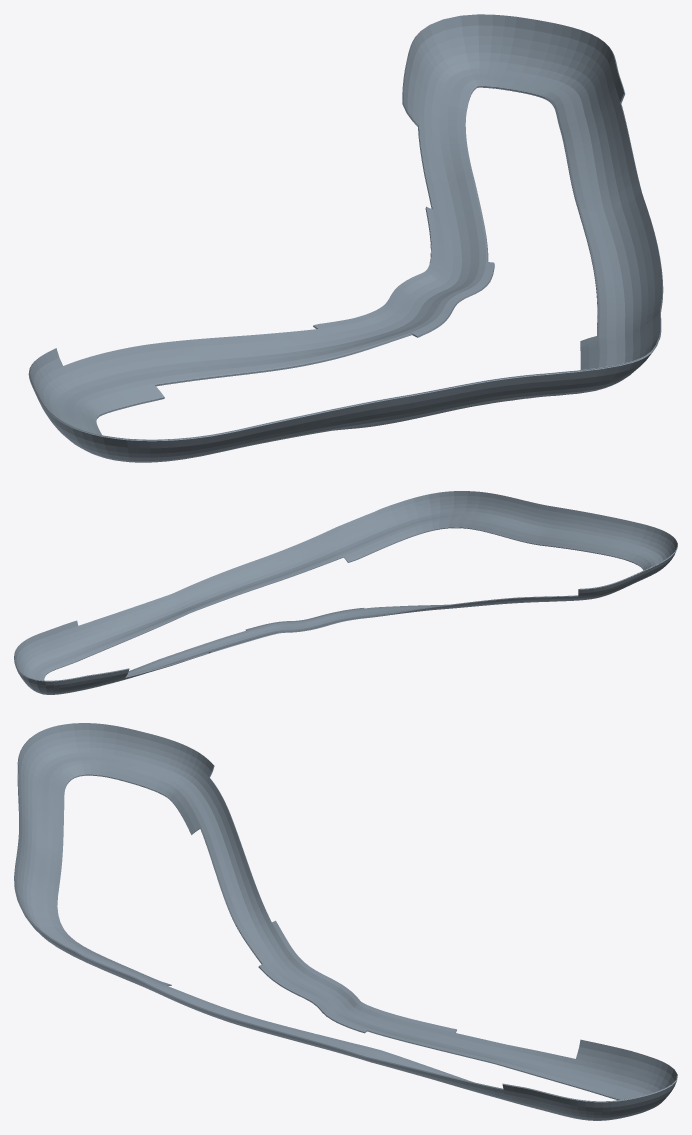
Rendered from gyrace-build-mondza.glb.
3 renders of one model, top to bottom at view 1: azimuth 30°, elevation 25°; view 2: azimuth 150°, elevation 25°; view 3: azimuth 270°, elevation 25°, orthographic. The views are drawn at different scales.
Parts seen in each view (by area): view 1: mondza; view 2: mondza; view 3: mondza.
Part boxes in pixels (x1,y1,x2,y2): mondza: (28,14,663,462); mondza: (14,491,677,694); mondza: (14,723,677,1120).
Size of the model in its own units: 4 by 0.7281 by 3.76.
